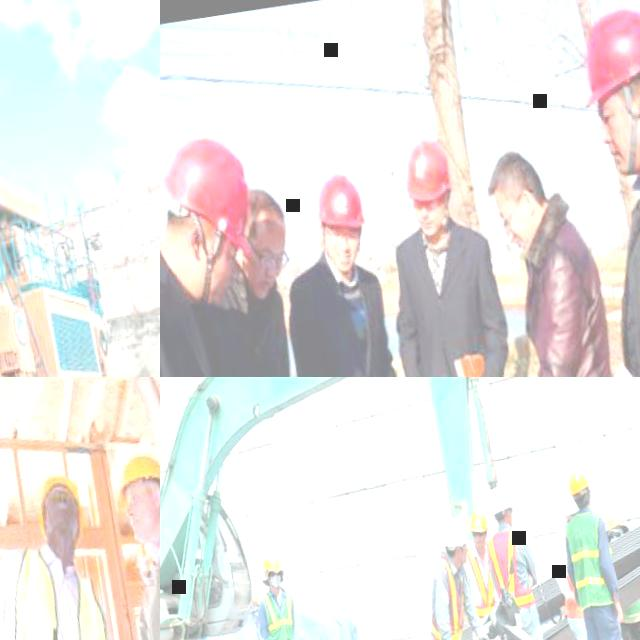helmet: (160, 133, 261, 273), (571, 4, 640, 108), (310, 170, 370, 236), (399, 137, 456, 206), (34, 472, 88, 540), (112, 453, 160, 490), (484, 484, 516, 516), (438, 518, 469, 548), (468, 511, 490, 536), (568, 470, 590, 494), (560, 496, 580, 519), (261, 554, 282, 574), (606, 514, 628, 533)
machinery: (160, 377, 537, 640), (0, 86, 151, 377)
mask: (269, 577, 284, 590)
no_helmet: (481, 148, 538, 194), (244, 182, 288, 237)
no_mask: (605, 111, 640, 178), (196, 263, 237, 306), (510, 210, 540, 254), (246, 263, 279, 303), (130, 505, 160, 546), (328, 245, 358, 278), (418, 212, 448, 240), (48, 503, 76, 532), (456, 551, 470, 565), (472, 538, 486, 550), (507, 517, 516, 527)
no_vest: (521, 232, 626, 377), (400, 232, 502, 377), (160, 252, 274, 377), (301, 264, 397, 377), (234, 297, 298, 377)
person: (365, 128, 555, 377), (451, 137, 640, 377), (160, 133, 319, 377), (264, 166, 438, 377), (200, 180, 354, 377), (562, 0, 640, 377), (0, 465, 155, 640), (86, 377, 160, 640), (552, 464, 640, 640), (476, 480, 567, 640), (410, 516, 506, 640), (542, 494, 617, 640), (455, 508, 524, 640), (249, 547, 335, 640), (601, 510, 640, 640)
vest: (0, 541, 124, 640), (418, 551, 475, 640), (564, 509, 614, 609), (485, 526, 539, 612), (462, 542, 502, 620), (609, 534, 640, 626), (258, 589, 303, 640), (560, 569, 586, 622)
